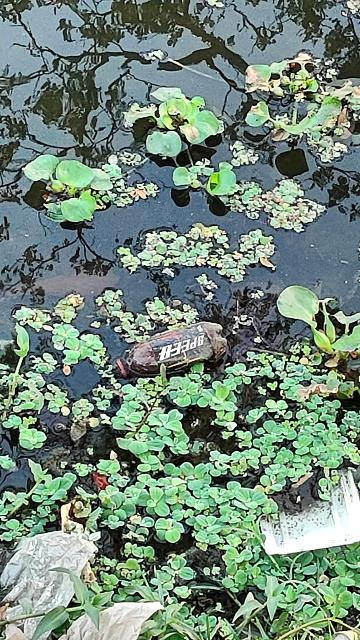bottle: (111, 315, 230, 389)
